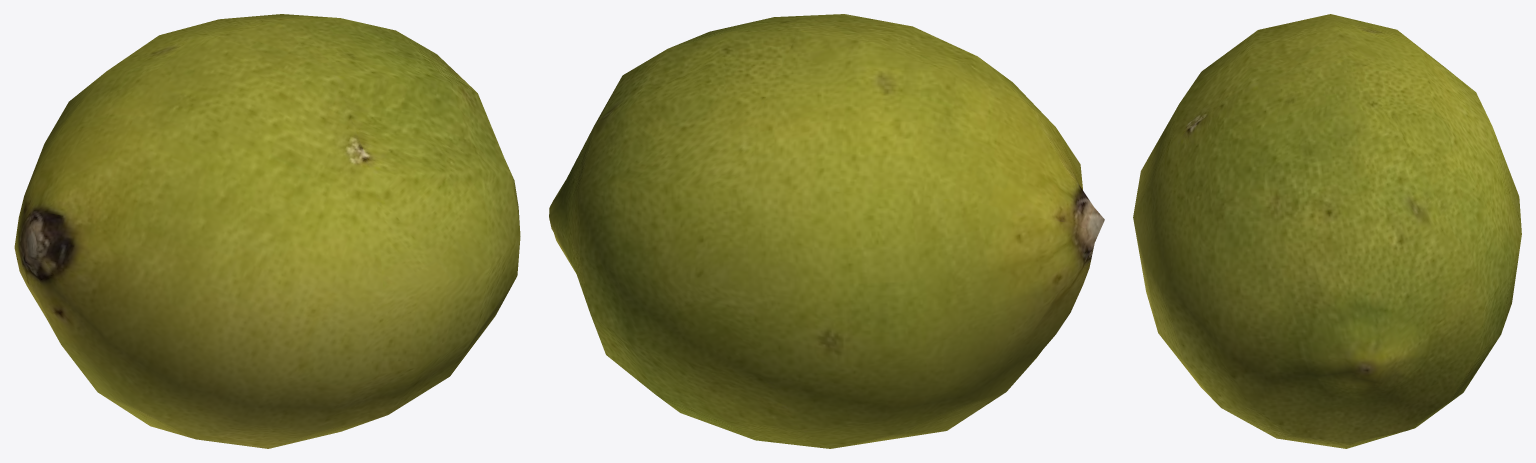
File: A122_Lime_low.fbx
3 renders of one model, left to right at view 1: azimuth 30°, elevation 25°; view 2: azimuth 150°, elevation 25°; view 3: azimuth 270°, elevation 25°, orthographic. The views are drawn at different scales.
Parts seen in each view (by area): view 1: A122_Lime_low; view 2: A122_Lime_low; view 3: A122_Lime_low.
Boxes of the visible parts, x1,y1,x2,y2 form: A122_Lime_low: (14,14,520,448); A122_Lime_low: (549,14,1104,448); A122_Lime_low: (1133,14,1521,448).
Bounding box in the file's own units: 3.69 × 2.72 × 2.81.
Materials: 1 (1 with a texture image).
